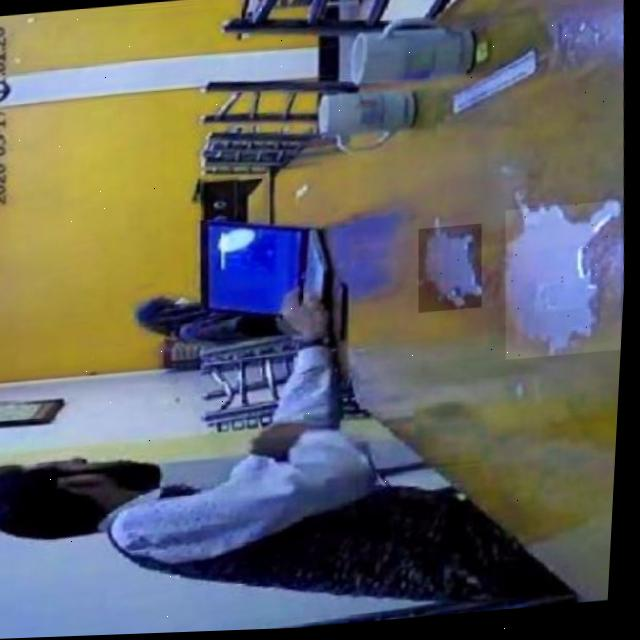spillage: (508, 206, 621, 360), (422, 231, 484, 313)
